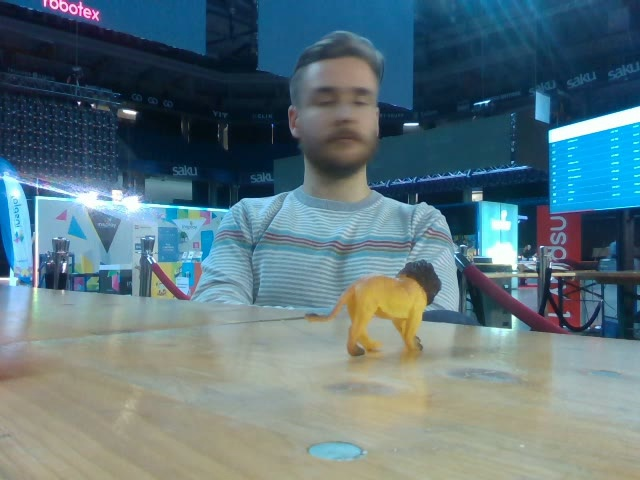toy: (304, 258, 442, 356)
